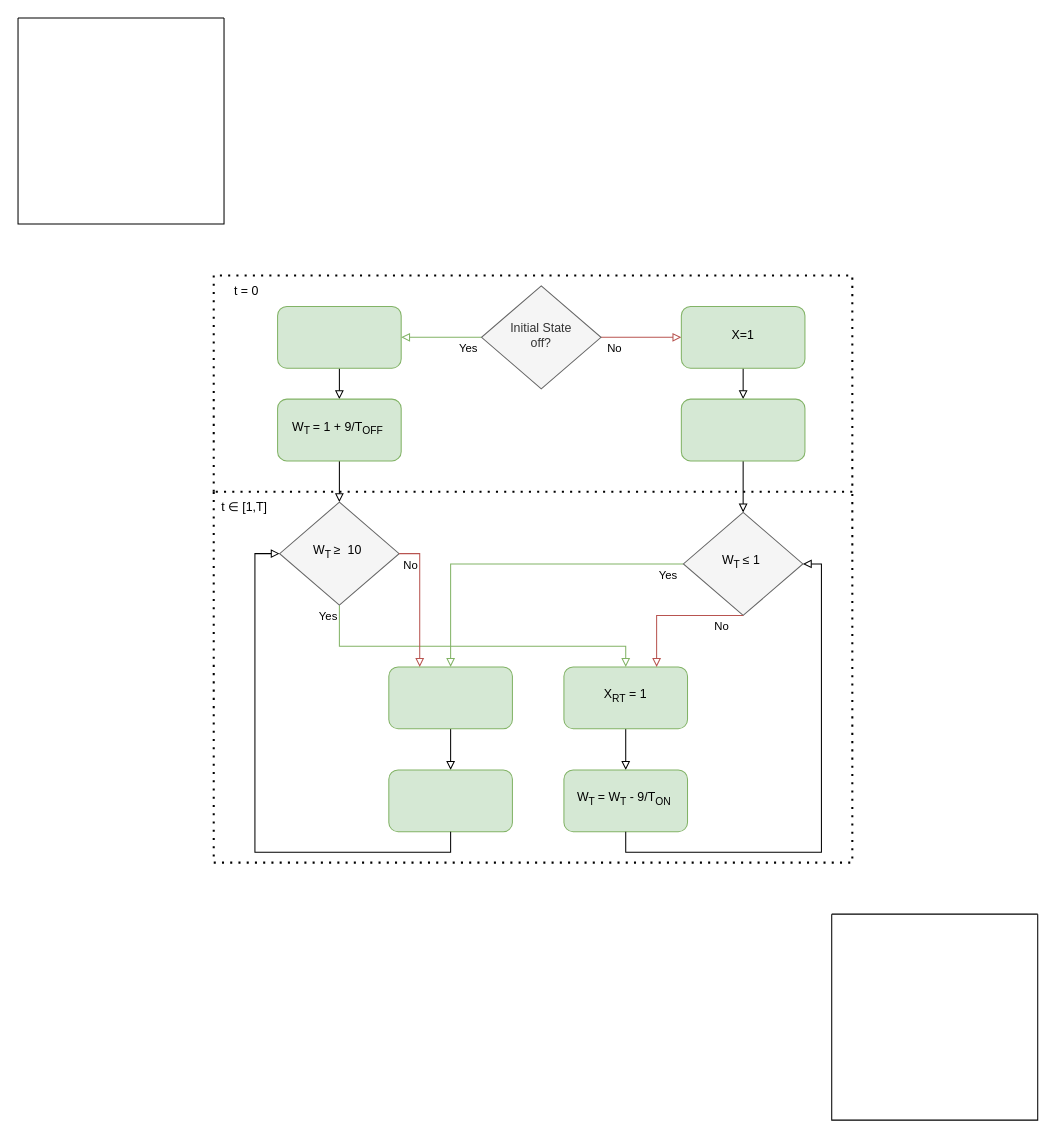
Image size: 1056x1138. Some labels were removed from this diagram. The shapes that lost their labels are listed below. From the top down, each one's centre as x and y in pixels, then its label:
At point (339, 336): "X=0".
At point (742, 429): "W T = 10 - 9/T ON".
At point (450, 697): "X RT = 0".
At point (450, 800): "W T = W T + 9/T OFF".
